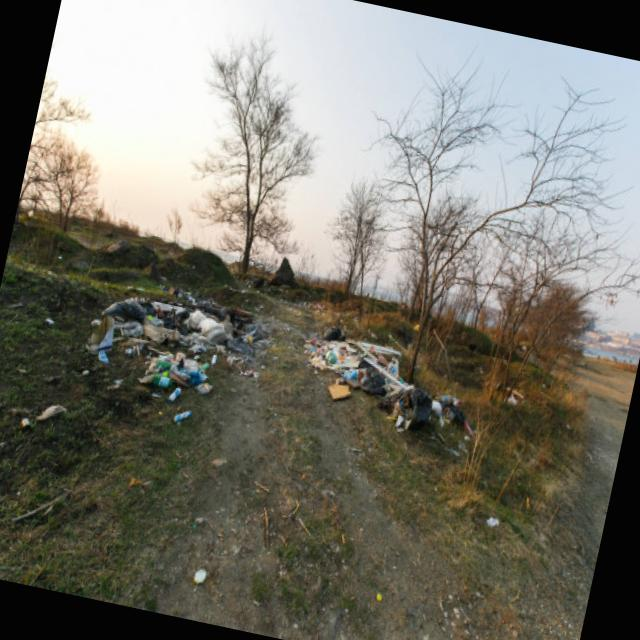garbage: (72, 252, 246, 416), (274, 284, 407, 422)
